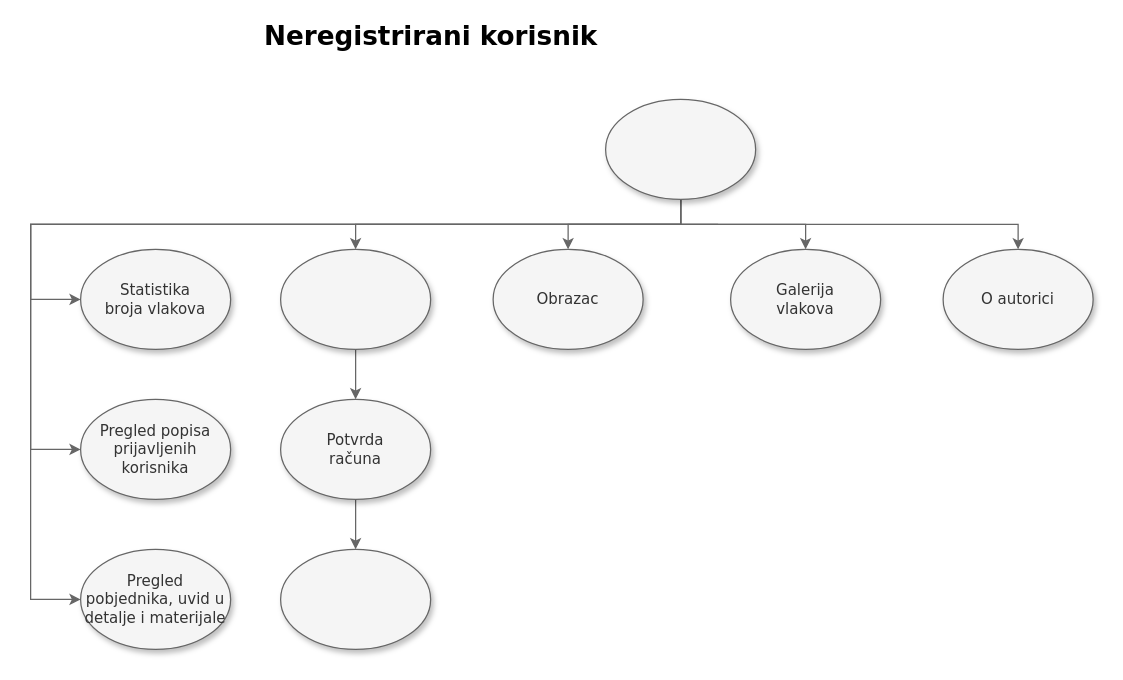
Some shapes in this 1123 by 680 pixel diagram are drawn without their labels. The centre of each missing label's shape, as x and y in pixels:
Aktivacija: (356,600)
Početna stranica: (681,150)
Registracija: (356,300)
